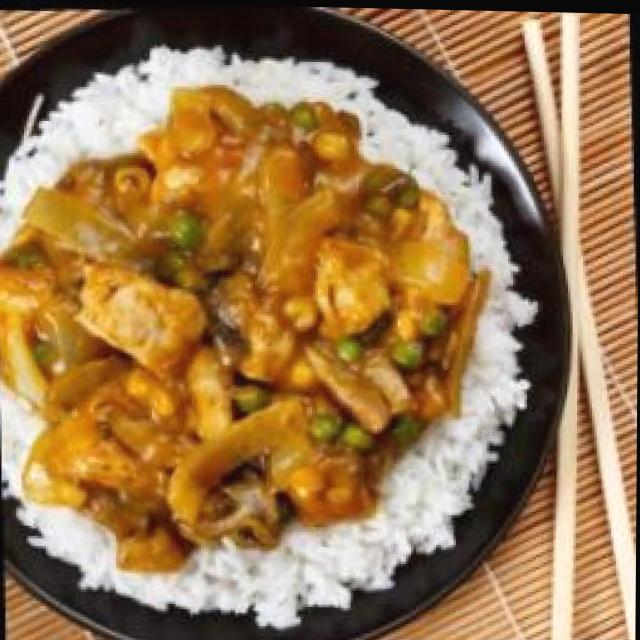curry: (0, 75, 492, 549)
